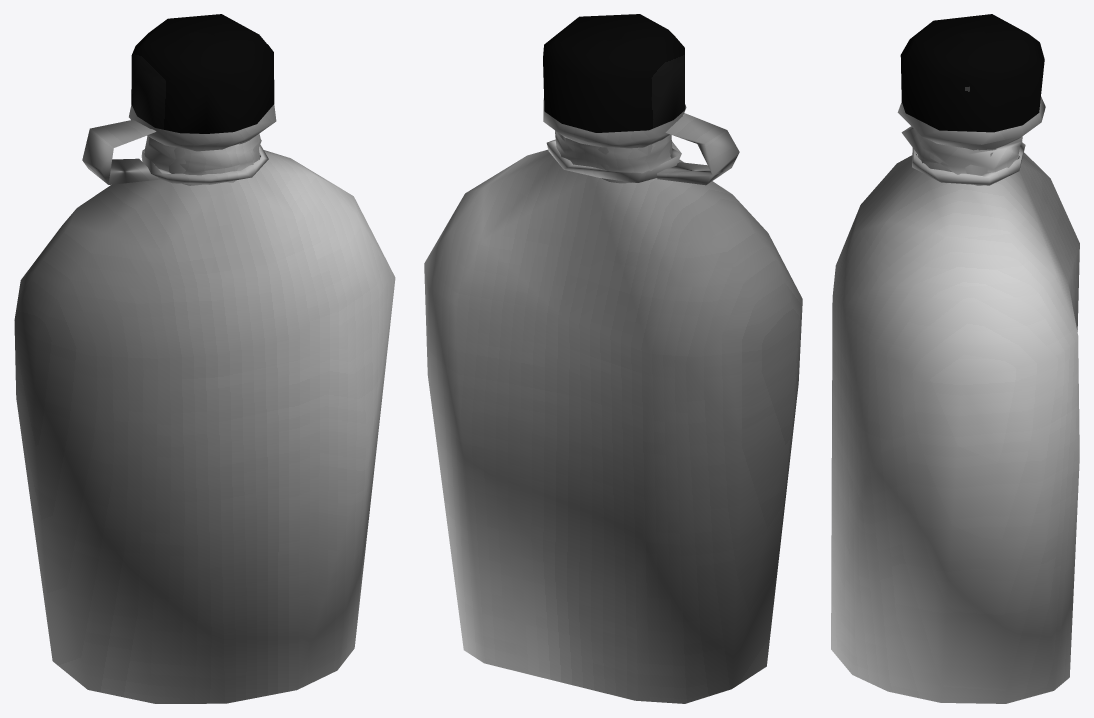
Rendered from AuthenticCanteen.fbx.
3 views of the same model, side by side, from view 1: azimuth 30°, elevation 25°; view 2: azimuth 150°, elevation 25°; view 3: azimuth 270°, elevation 25° (orthographic).
Visible parts, largest first — view 1: AuthenticCanteen; view 2: AuthenticCanteen; view 3: AuthenticCanteen.
Boxes of the visible parts, x1=… form: AuthenticCanteen: x1=14, y1=14, x2=395, y2=703; AuthenticCanteen: x1=424, y1=14, x2=802, y2=703; AuthenticCanteen: x1=831, y1=14, x2=1079, y2=703.
Bounding box in the file's own units: 0.0933 × 0.1546 × 0.0578.
